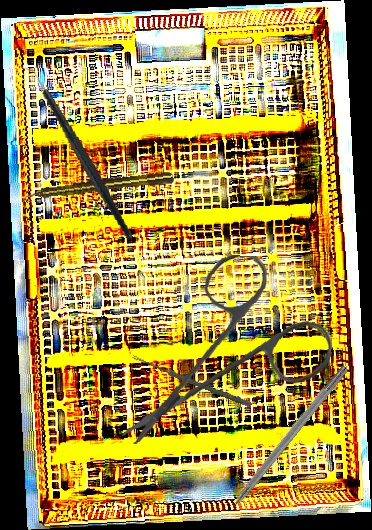Chopper: (17, 49, 134, 254)
Handpiece: (20, 170, 176, 203)
Hook Surgical: (215, 362, 350, 526)
Iris Scissors: (121, 248, 338, 457)
Surgical Spoon: (131, 354, 253, 408)
